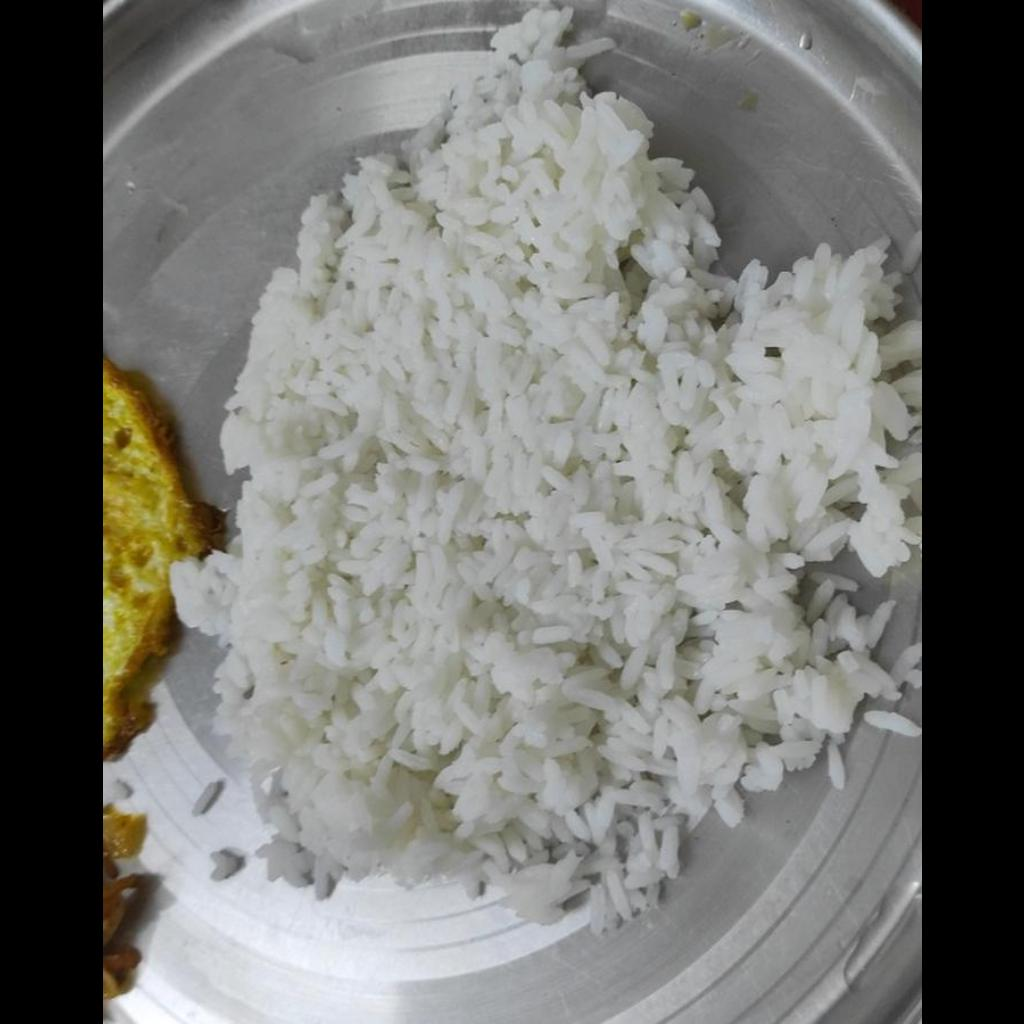egg-poached: (102, 358, 225, 757)
rice: (171, 4, 920, 933)
